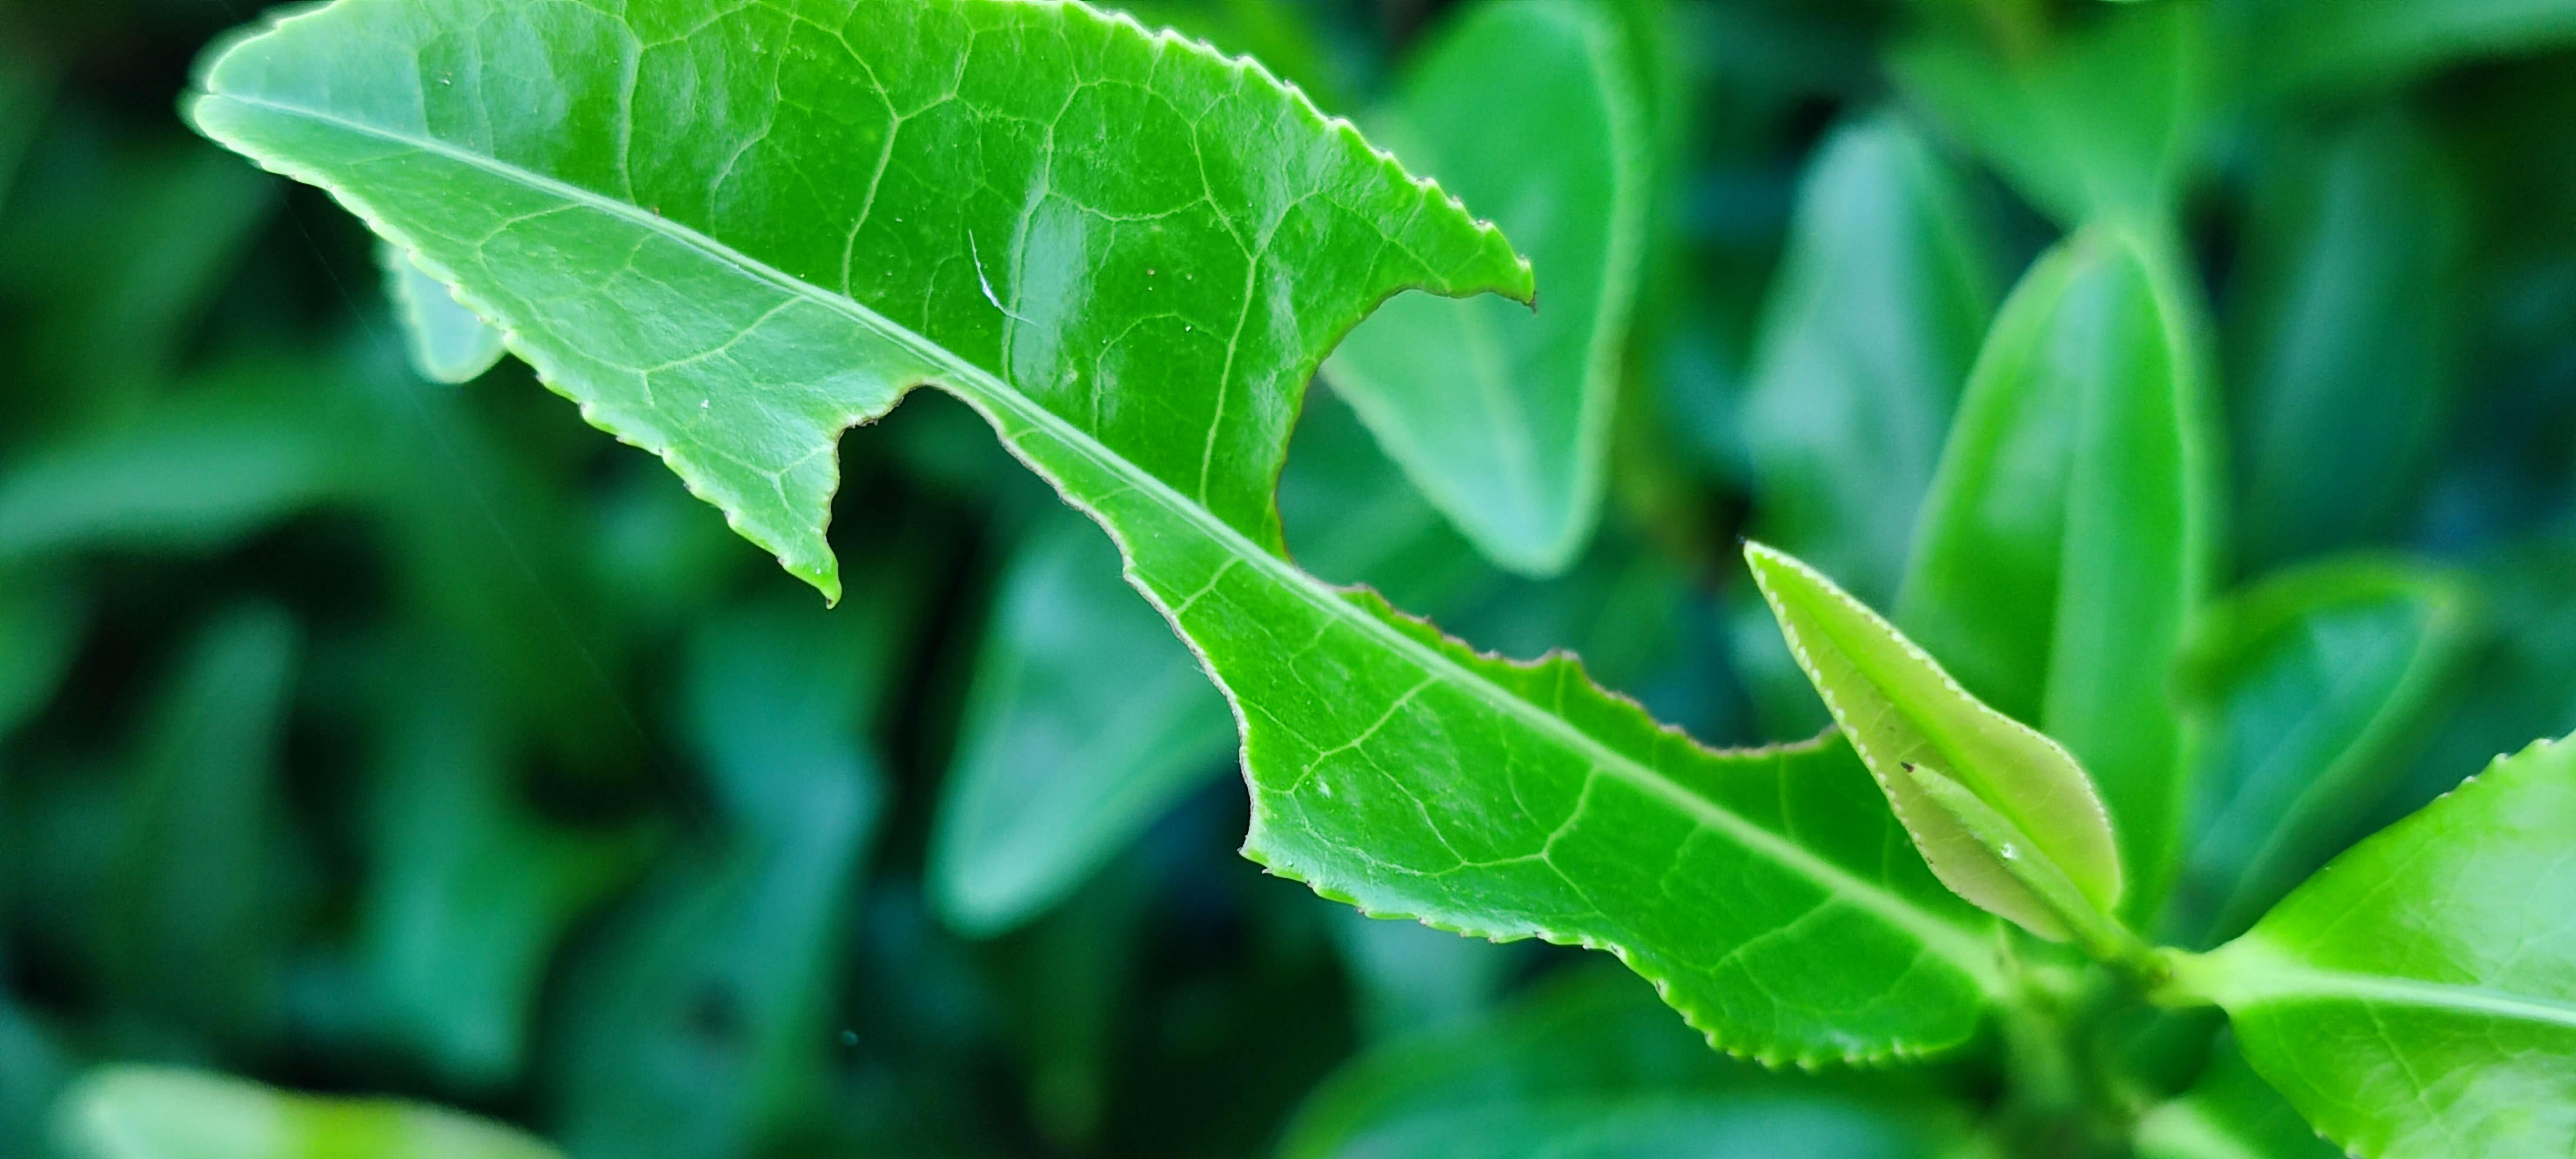chihuo_high: (186, 0, 2008, 1077)
healthy: (1738, 534, 2129, 946)
